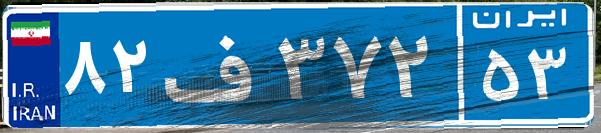2: (385, 28, 445, 110), (110, 28, 158, 105)
3: (273, 28, 330, 110), (525, 38, 570, 115)
5: (475, 38, 525, 113)
7: (330, 28, 385, 110)
8: (57, 26, 110, 107)
ف: (158, 15, 273, 115)
